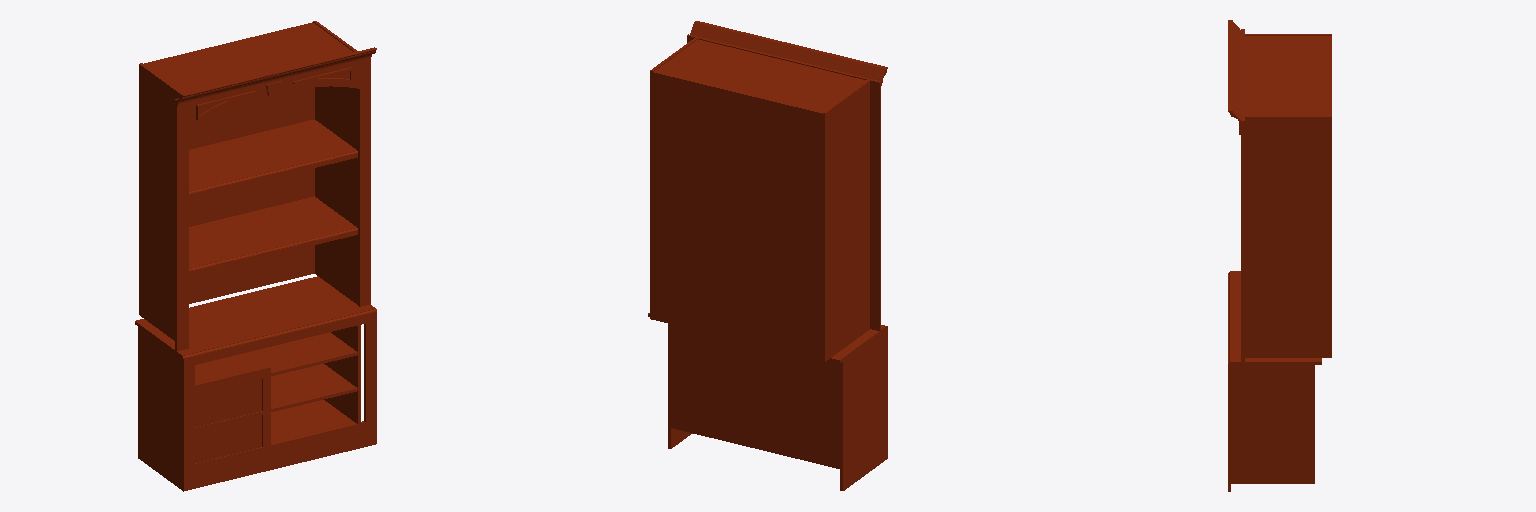
The robot description file, URDF, robot "cabinet_01":
<robot
  name="cabinet_01">
  <link name="cabinet_01">
    <inertial>
      <origin xyz="0.0 0.0 0.0" rpy="0 0 0"/>
      <mass value="0.4"/>
      <inertia ixx="1" ixy="0.0" ixz="0.0" iyy="1" iyz="0.0" izz="1" />
    </inertial>

    <visual>
      <geometry>
        <mesh filename="../meshes/dae/cabinet_01.dae" scale="1 1 1" />
      </geometry>
     </visual>

    <collision>
      <geometry>
        <mesh filename="../meshes/dae/cabinet_01.dae" scale="1 1 1" />
      </geometry>
    </collision>

  </link>
</robot>

--- Facts derived from the render (not from the file) ---
Views: 3 orthographic renders of the robot side by side, from view 1: azimuth 30°, elevation 25°; view 2: azimuth 150°, elevation 25°; view 3: azimuth 270°, elevation 25°.
Model cabinet_01 with 1 links and 0 joints (none), rooted at cabinet_01, posed every joint at zero.
Visible links, largest first — view 1: cabinet_01; view 2: cabinet_01; view 3: cabinet_01.
Boxes of the visible links, left/top/right/bottom form: cabinet_01: left=135, top=21, right=376, bottom=491; cabinet_01: left=648, top=21, right=887, bottom=490; cabinet_01: left=1228, top=20, right=1331, bottom=491.
Bounding box of the posed robot: 1.26 × 0.6033 × 2.44 m (x, y, z).
1 mesh visuals loaded from 1 distinct referenced files (1 Collada DAE).